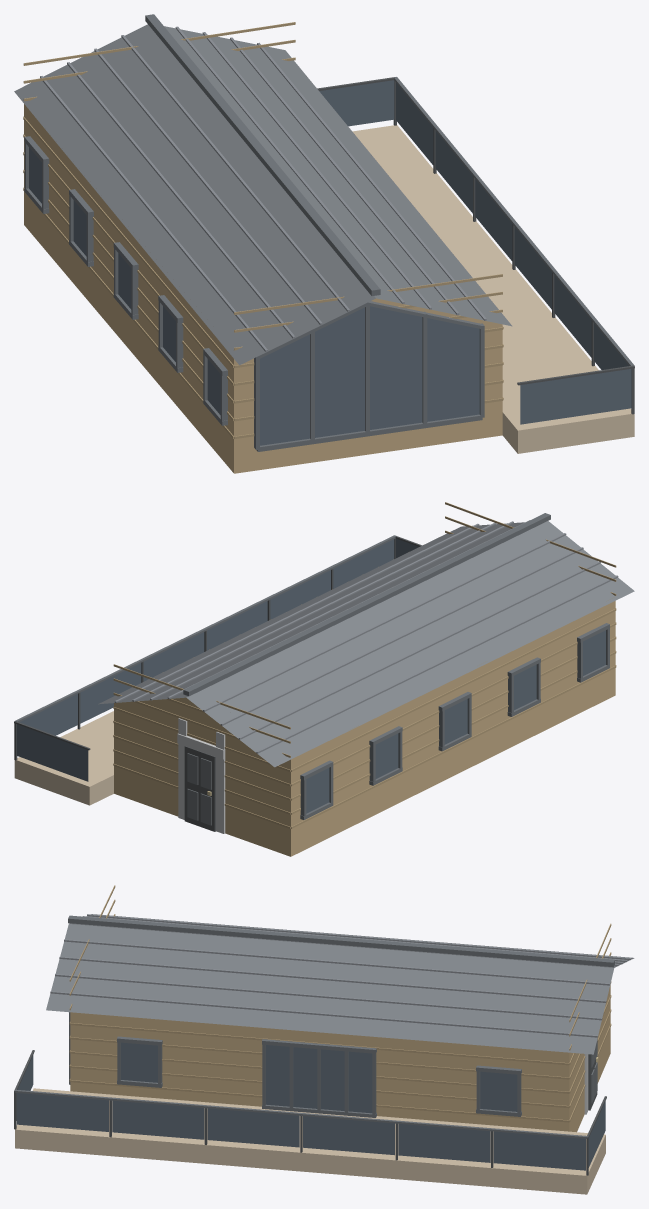
3 renders of one model, top to bottom at view 1: azimuth 30°, elevation 25°; view 2: azimuth 150°, elevation 25°; view 3: azimuth 270°, elevation 25°, orthographic. The views are drawn at different scales.
Parts seen in each view (by area): view 1: slate, door_wood, window_glass_015, larch, slate_dk, slate_lt, door_wood_p, window_glass_007, window_glass_008, pipe, window_glass_002, window_glass_003 (+4 smaller); view 2: slate, door_wood, slate_dk, slate_lt, door_wood_p, larch, window_glass_008, stone_band, window_glass_005, door_dark_p, window_glass_006, door_dark (+10 smaller); view 3: slate, door_wood, larch, slate_dk, slate_lt, door_wood_p, window_glass_003, window_glass_002, window_glass_006, window_glass_005, window_glass_001, window_glass_004 (+8 smaller).
Boxes of the visible parts, box(x1,y1,x2,y2) form: slate: box(14, 24, 512, 365); door_wood: box(24, 104, 502, 473); window_glass_015: box(260, 306, 479, 445); larch: box(352, 125, 634, 453); slate_dk: box(24, 14, 634, 451); slate_lt: box(40, 26, 486, 351); door_wood_p: box(23, 22, 503, 438); window_glass_007: box(520, 369, 631, 424); window_glass_008: box(319, 80, 394, 126); pipe: box(317, 77, 634, 414); window_glass_002: box(554, 275, 591, 357); window_glass_003: box(514, 227, 551, 309); slate: box(98, 521, 634, 767); door_wood: box(114, 559, 615, 856); slate_dk: box(15, 513, 609, 819); slate_lt: box(114, 520, 618, 753); door_wood_p: box(113, 502, 616, 828); larch: box(14, 711, 113, 805); window_glass_008: box(16, 724, 88, 781); stone_band: box(177, 718, 225, 833); window_glass_005: box(80, 663, 141, 723); door_dark_p: box(187, 753, 211, 825); window_glass_006: box(19, 694, 77, 735); door_dark: box(184, 746, 215, 831); slate: box(46, 914, 634, 1054); door_wood: box(70, 985, 610, 1132); larch: box(15, 1088, 605, 1194); slate_dk: box(15, 915, 614, 1138); slate_lt: box(50, 914, 630, 1037); door_wood_p: box(69, 885, 611, 1122); window_glass_003: box(207, 1108, 299, 1147); window_glass_002: box(112, 1100, 204, 1139); window_glass_006: box(493, 1131, 585, 1170); window_glass_005: box(398, 1123, 490, 1162); window_glass_001: box(17, 1093, 108, 1131); window_glass_004: box(303, 1116, 394, 1155).
Size of the model in its own units: 10.44 by 3.8 by 14.97.
